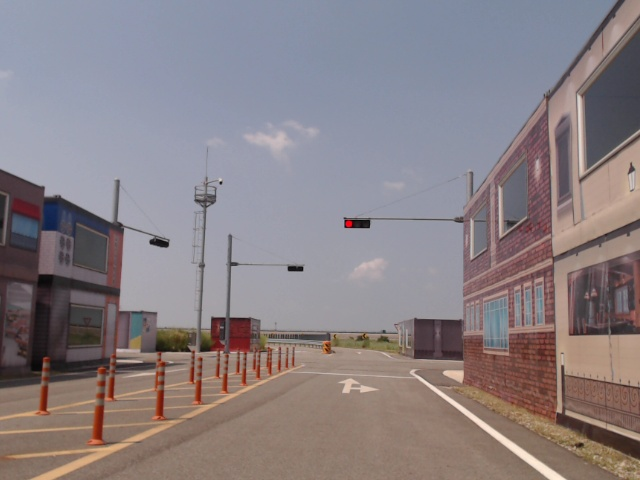red_3: (344, 219, 371, 228)
